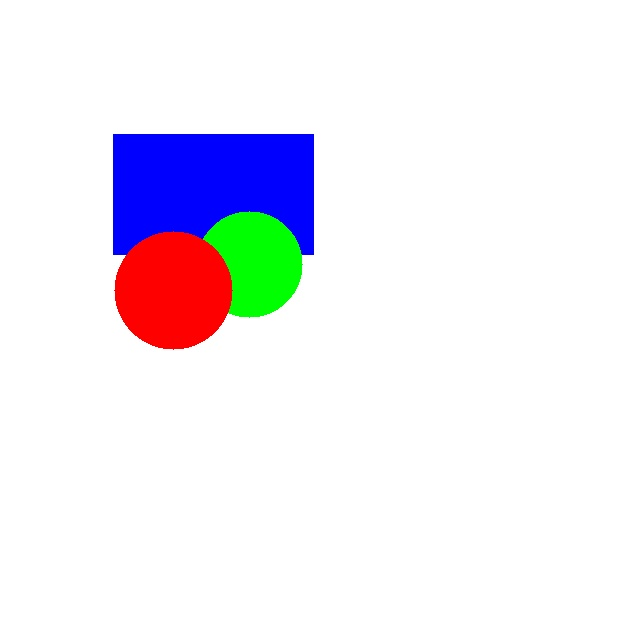cartao: (113, 134, 313, 254)
rosca_externa: (196, 211, 302, 317)
rosca_interna: (114, 231, 232, 349)
